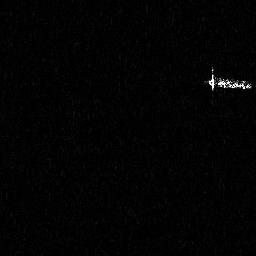ship: (204, 63, 253, 99)
